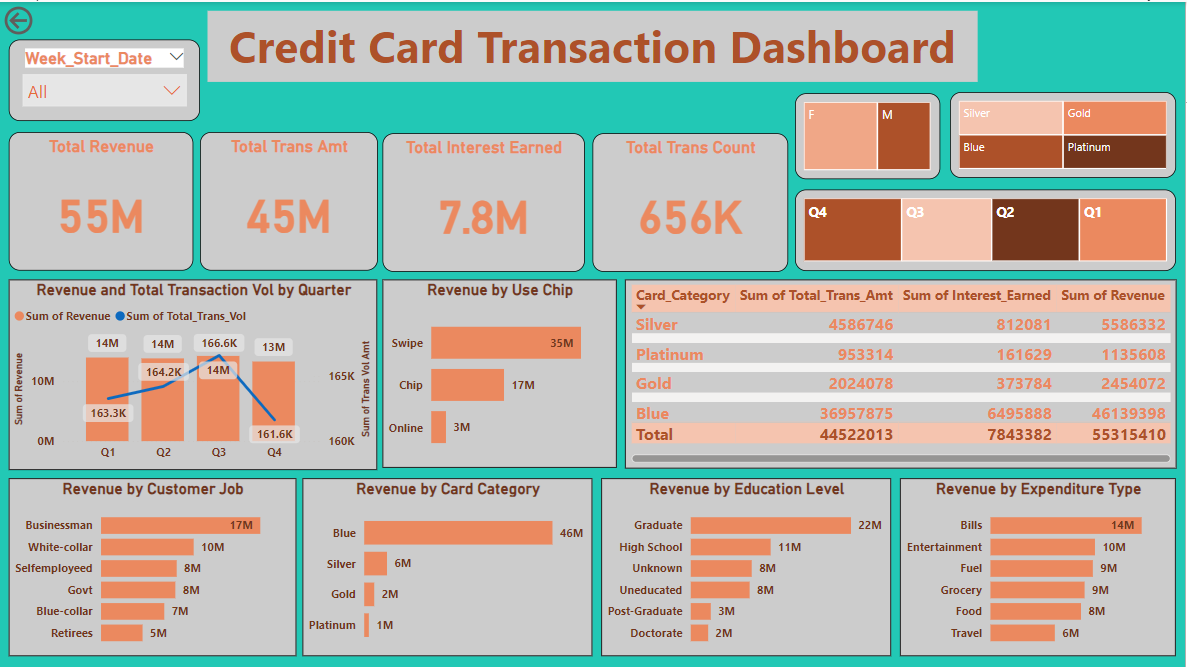

This screenshot's page, from the dashboard's own definition file:
{"tool":"powerbi","page":{"name":"CC Transaction","canvas":[1280,720],"ordinal":0},"visuals":[{"type":"card","title":"Total Interest Earned","fields":{"Values":["Sum(cc credit_card.Interest_Earned)"]},"box":[413,141.3,218.2,149.6],"z":0},{"type":"card","title":"Total Revenue","fields":{"Values":["Sum(cc credit_card.Revenue)"]},"box":[9.6,140,199,149.6],"z":1000},{"type":"actionButton","box":[0,0,100,40],"z":2000},{"type":"textbox","box":[223.9,9.4,831,76.9],"z":3000},{"type":"lineStackedColumnComboChart","title":"Revenue and Total Transaction Vol by Quarter","fields":{"Category":["cc credit_card.Qtr"],"Y":["Sum(cc credit_card.Revenue)"],"Y2":["Sum(cc credit_card.Total_Trans_Vol)"]},"box":[9.6,299.1,397.9,205.8],"z":4000},{"type":"barChart","title":"Revenue by Expenditure Type","fields":{"Y":["Sum(cc credit_card.Revenue)"],"Category":["cc credit_card.Exp Type"]},"box":[971.5,514.6,297.8,192.1],"z":5000},{"type":"barChart","title":"Revenue by Education Level","fields":{"Y":["Sum(cc credit_card.Revenue)"],"Category":["cc customer.Education_Level"]},"box":[649.1,514.6,312.9,192.1],"z":6000},{"type":"barChart","title":"Revenue by Customer Job","fields":{"Category":["cc customer.Customer_Job"],"Y":["Sum(cc credit_card.Revenue)"]},"box":[9.6,514.6,310.1,192.1],"z":7000},{"type":"barChart","title":"Revenue by Card Category","fields":{"Category":["cc credit_card.Card_Category"],"Y":["Sum(cc credit_card.Revenue)"]},"box":[326.6,514.6,312.9,192.1],"z":8000},{"type":"barChart","title":"Revenue by Use Chip","fields":{"Category":["cc credit_card.Use Chip"],"Y":["Sum(cc credit_card.Revenue)"]},"box":[413,299.1,252.5,203.1],"z":9000},{"type":"tableEx","fields":{"Values":["cc credit_card.Card_Category","Sum(cc credit_card.Total_Trans_Amt)","Sum(cc credit_card.Interest_Earned)","Sum(cc credit_card.Revenue)"]},"box":[674.5,299.5,594.9,203.7],"z":10000},{"type":"card","title":"Total Trans Amt","fields":{"Values":["Sum(cc credit_card.Total_Trans_Amt)"]},"box":[215.4,140,192.1,149.6],"z":11000},{"type":"card","title":"Total Trans Count","fields":{"Values":["Sum(cc credit_card.Total_Trans_Vol)"]},"box":[639.5,141.3,211.3,149.6],"z":12000},{"type":"slicer","fields":{"Values":["cc credit_card.Week_Start_Date"]},"box":[9.4,40.5,206.4,87.7],"z":13000},{"type":"treemap","fields":{"Group":["cc credit_card.Qtr"],"Values":["Avg(cc credit_card.ï»¿Client_Num)"]},"box":[858,202.4,411.5,87.7],"z":14000},{"type":"treemap","fields":{"Values":["CountNonNull(cc credit_card.Client_Num)"],"Group":["cc customer.Gender"]},"box":[858,98.5,156.5,93.1],"z":15000},{"type":"treemap","fields":{"Group":["cc credit_card.Card_Category"],"Values":["Avg(cc credit_card.Client_Num)"]},"box":[1025.3,97.1,244.2,93.1],"z":16000}]}

Visuals, with their boxes in screenshot pixels (x1, y1, x2, y2), scaled from the page's 1280x720 canvas onto the 1187x667 screenshot:
"Total Interest Earned" card: 383, 131, 585, 269
"Total Revenue" card: 9, 130, 193, 268
actionButton: 0, 0, 93, 37
textbox: 208, 9, 978, 80
"Revenue and Total Transaction Vol by Quarter" lineStackedColumnComboChart: 9, 277, 378, 468
"Revenue by Expenditure Type" barChart: 901, 477, 1177, 655
"Revenue by Education Level" barChart: 602, 477, 892, 655
"Revenue by Customer Job" barChart: 9, 477, 296, 655
"Revenue by Card Category" barChart: 303, 477, 593, 655
"Revenue by Use Chip" barChart: 383, 277, 617, 465
tableEx - cc credit_card.Card_Category x Sum(cc credit_card.Total_Trans_Amt): 625, 277, 1177, 466
"Total Trans Amt" card: 200, 130, 378, 268
"Total Trans Count" card: 593, 131, 789, 269
slicer - cc credit_card.Week_Start_Date: 9, 38, 200, 119
treemap - cc credit_card.Qtr x Avg(cc credit_card.ï»¿Client_Num): 796, 188, 1177, 269
treemap - CountNonNull(cc credit_card.Client_Num) x cc customer.Gender: 796, 91, 941, 177
treemap - cc credit_card.Card_Category x Avg(cc credit_card.Client_Num): 951, 90, 1177, 176
